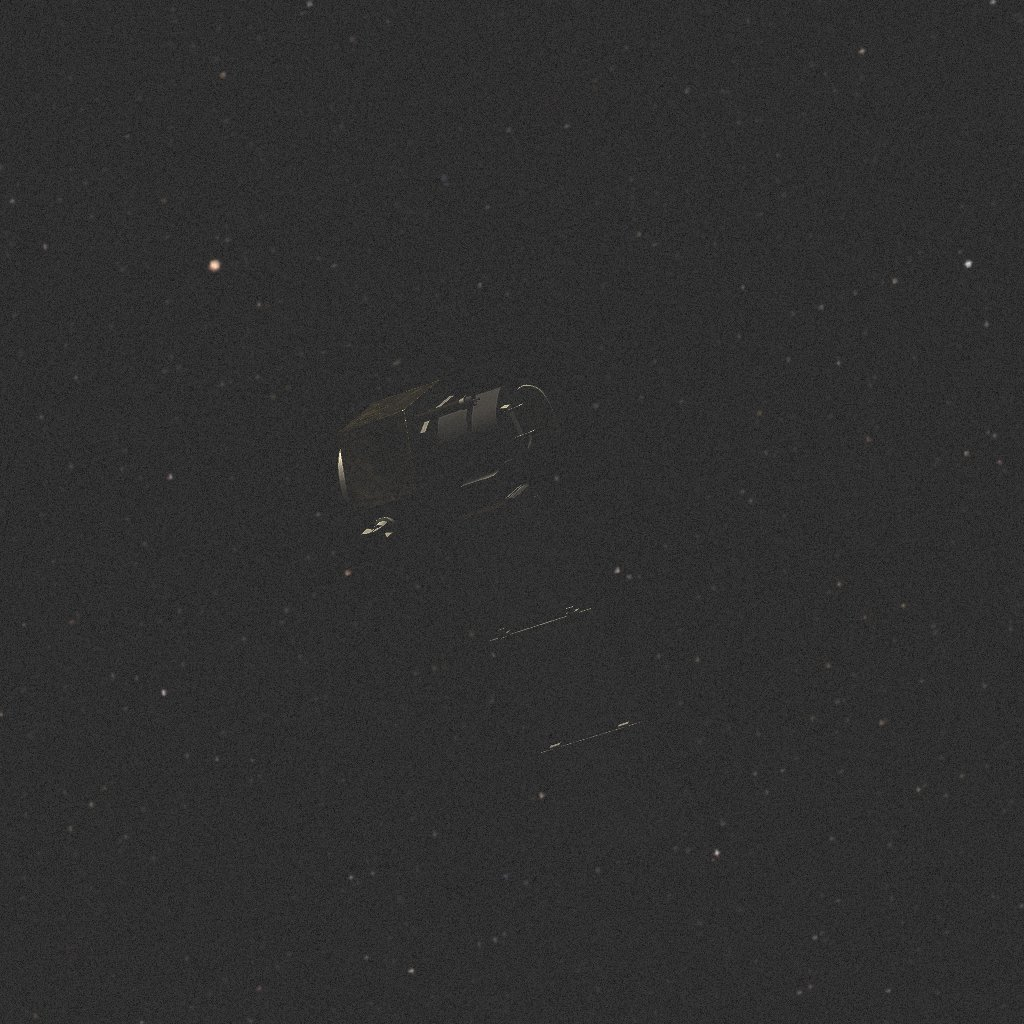earth_observation_sat_1: (338, 368, 652, 774)
